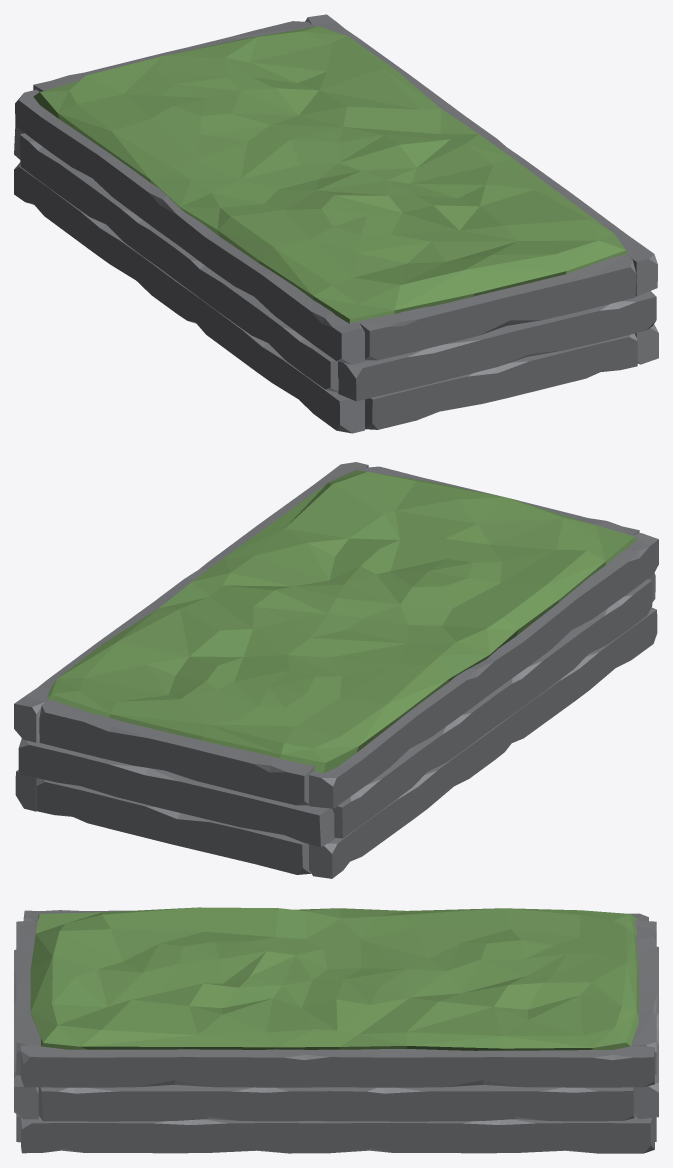
Rendered from gardenbox_7.fbx.
3 views of the same model, one above another, from view 1: azimuth 30°, elevation 25°; view 2: azimuth 150°, elevation 25°; view 3: azimuth 270°, elevation 25° (orthographic). The views are drawn at different scales.
Visible parts, largest first — view 1: Gardenbox_07; view 2: Gardenbox_07; view 3: Gardenbox_07.
Part boxes in pixels (x1,y1,x2,y2): Gardenbox_07: [14, 14, 658, 433]; Gardenbox_07: [14, 462, 658, 878]; Gardenbox_07: [14, 907, 658, 1153].
Size of the model in its own units: 0.4036 by 0.1461 by 0.7399.
Materials: 1 (1 with a texture image).
